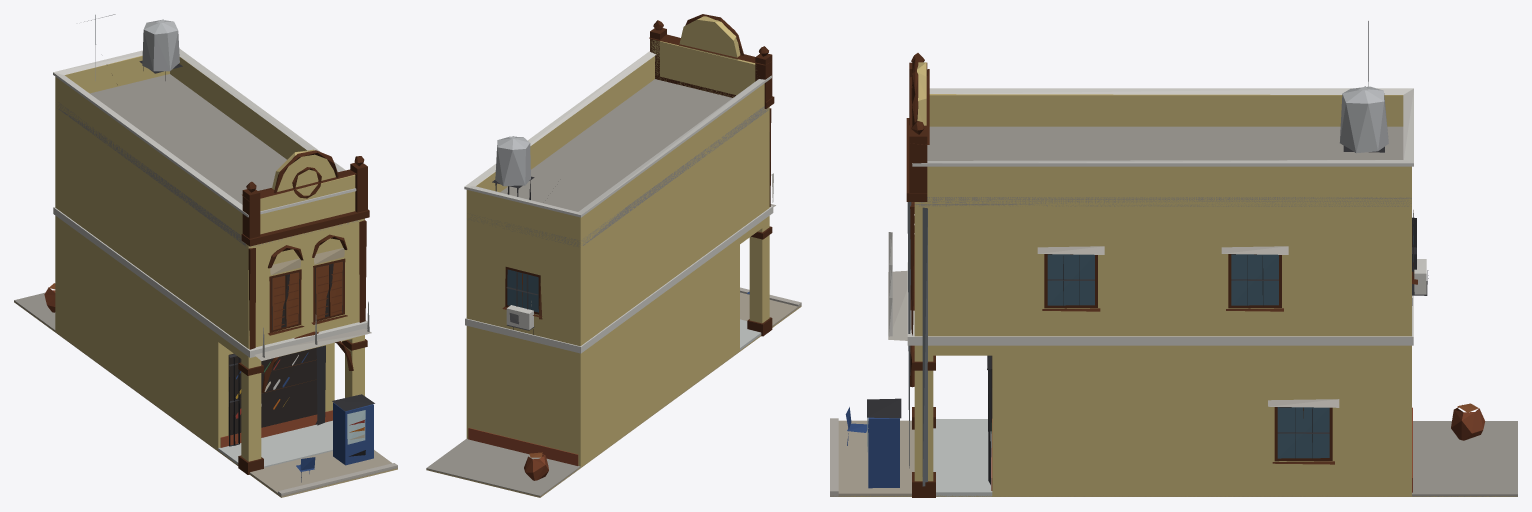
File: bay1_right.glb
3 views of the same model, side by side, from view 1: azimuth 30°, elevation 25°; view 2: azimuth 150°, elevation 25°; view 3: azimuth 270°, elevation 25° (orthographic). The views are drawn at different scales.
Visible parts, largest first — view 1: body, windows; view 2: body, windows; view 3: body, windows.
Boxes of the visible parts, <box> form: body: <box>14,14,397,497</box>; windows: <box>228,261,343,435</box>; body: <box>426,14,801,497</box>; windows: <box>507,269,538,312</box>; body: <box>830,21,1517,497</box>; windows: <box>991,213,1413,458</box>.
Size of the model in its own units: 4.48 by 10.65 by 15.9.
